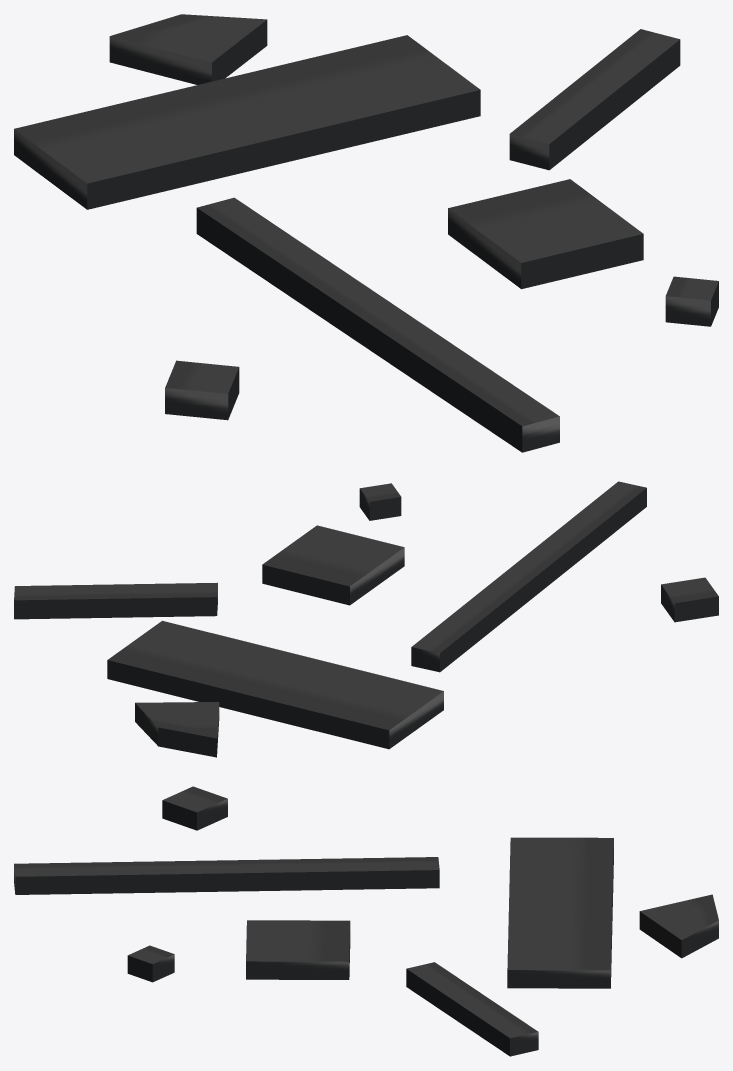
Rendered from rubble_01.gltf.
3 renders of one model, top to bottom at view 1: azimuth 30°, elevation 25°; view 2: azimuth 150°, elevation 25°; view 3: azimuth 270°, elevation 25°, orthographic. The views are drawn at different scales.
Visible parts, largest first — view 1: rubble_01; view 2: rubble_01; view 3: rubble_01.
Boxes of the visible parts, x1=… form: rubble_01: x1=14, y1=14, x2=718, y2=452; rubble_01: x1=14, y1=481, x2=718, y2=757; rubble_01: x1=14, y1=786, x2=718, y2=1056.
Size of the model in its own units: 7.86 by 0.2654 by 9.29.
Materials: 1 (1 with a texture image).
